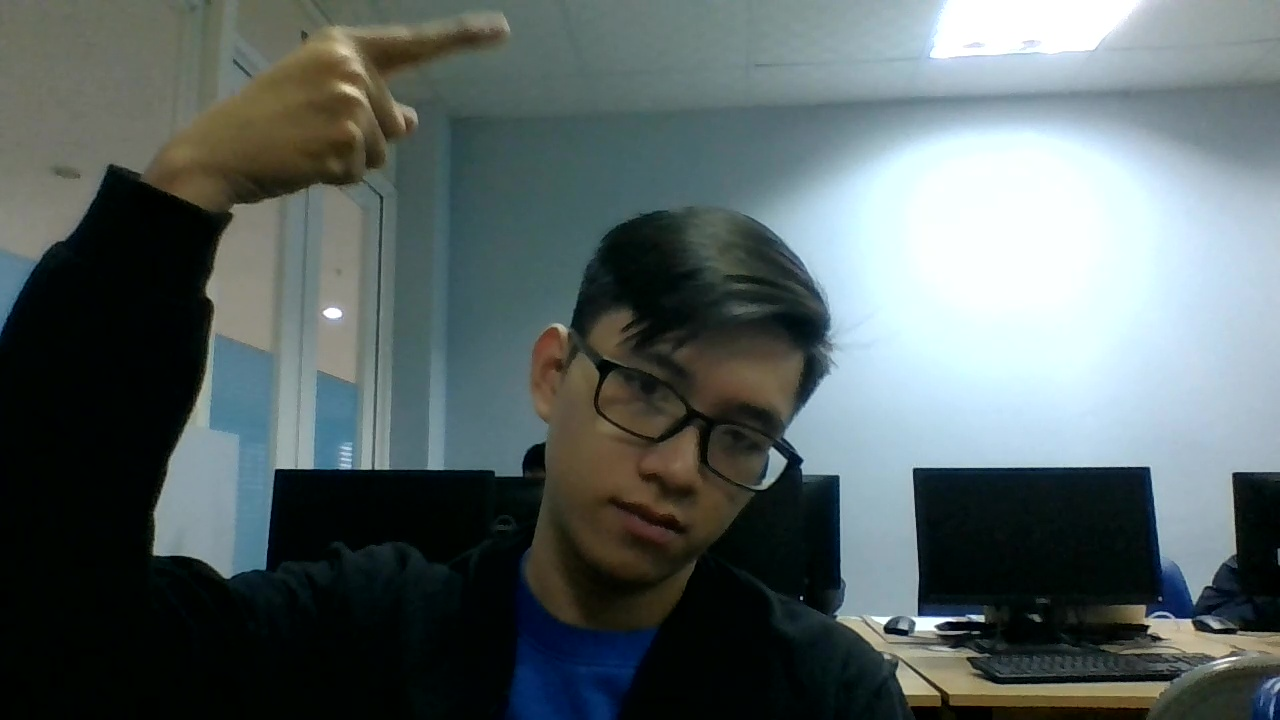left: (203, 14, 512, 203)
